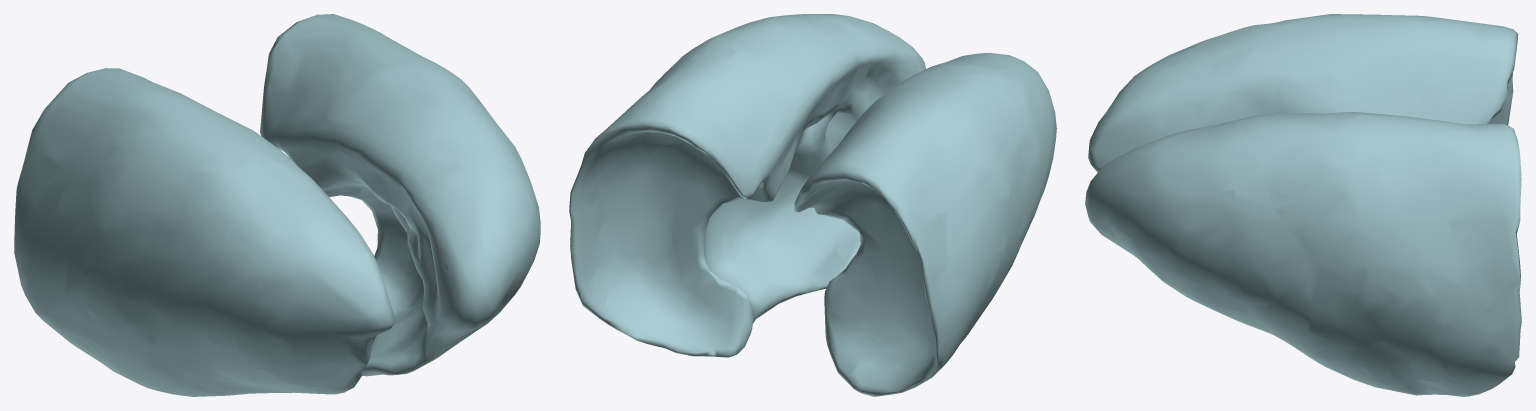
3 renders of one model, left to right at view 1: azimuth 30°, elevation 25°; view 2: azimuth 150°, elevation 25°; view 3: azimuth 270°, elevation 25°, orthographic. The views are drawn at different scales.
Visible parts, largest first — view 1: 胸膜; view 2: 胸膜; view 3: 胸膜.
Part boxes in pixels (x1,y1,x2,y2): 胸膜: (14, 14, 540, 396); 胸膜: (569, 14, 1056, 396); 胸膜: (1085, 14, 1521, 396).
Size of the model in its own units: 0.388 by 0.2773 by 0.3893.
